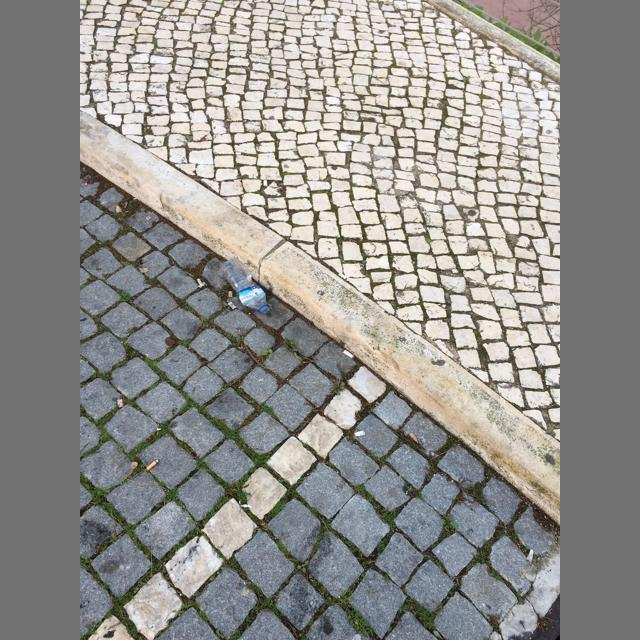litter: (221, 259, 270, 314), (146, 460, 159, 471), (343, 349, 355, 358), (409, 433, 418, 443), (355, 431, 365, 437), (197, 278, 203, 287), (228, 292, 232, 297)
